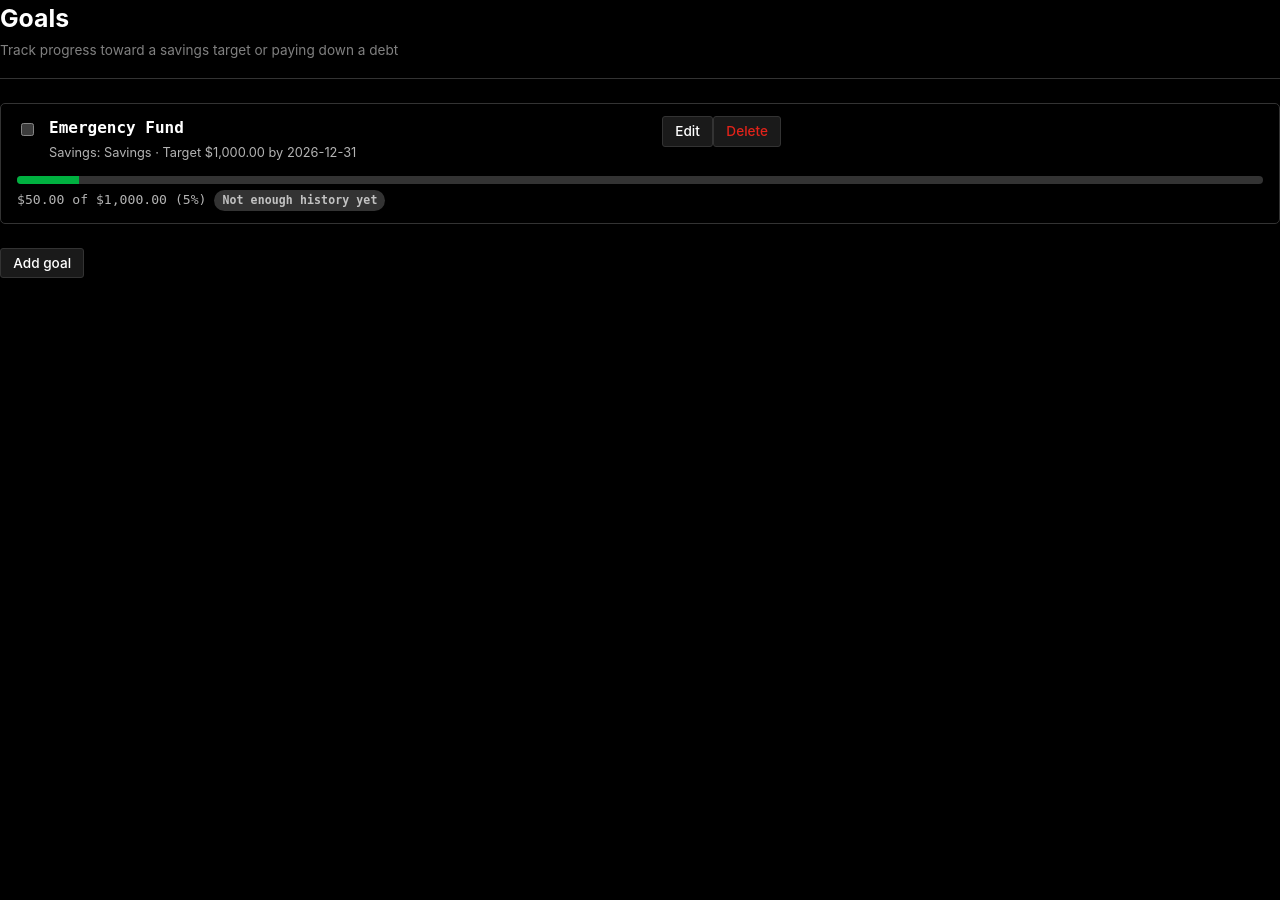
Scenario: GoalsScreen delete confirmation › clicking Delete opens a confirmation panel with a verb-phrase label, not a generic one
This screenshot has width=1280, height=900.
Expected: the text "Emergency Fund" is shown, [49,118,184,137]
Step 1. Click the button "Delete" → (747, 132), box [713,116,781,147]
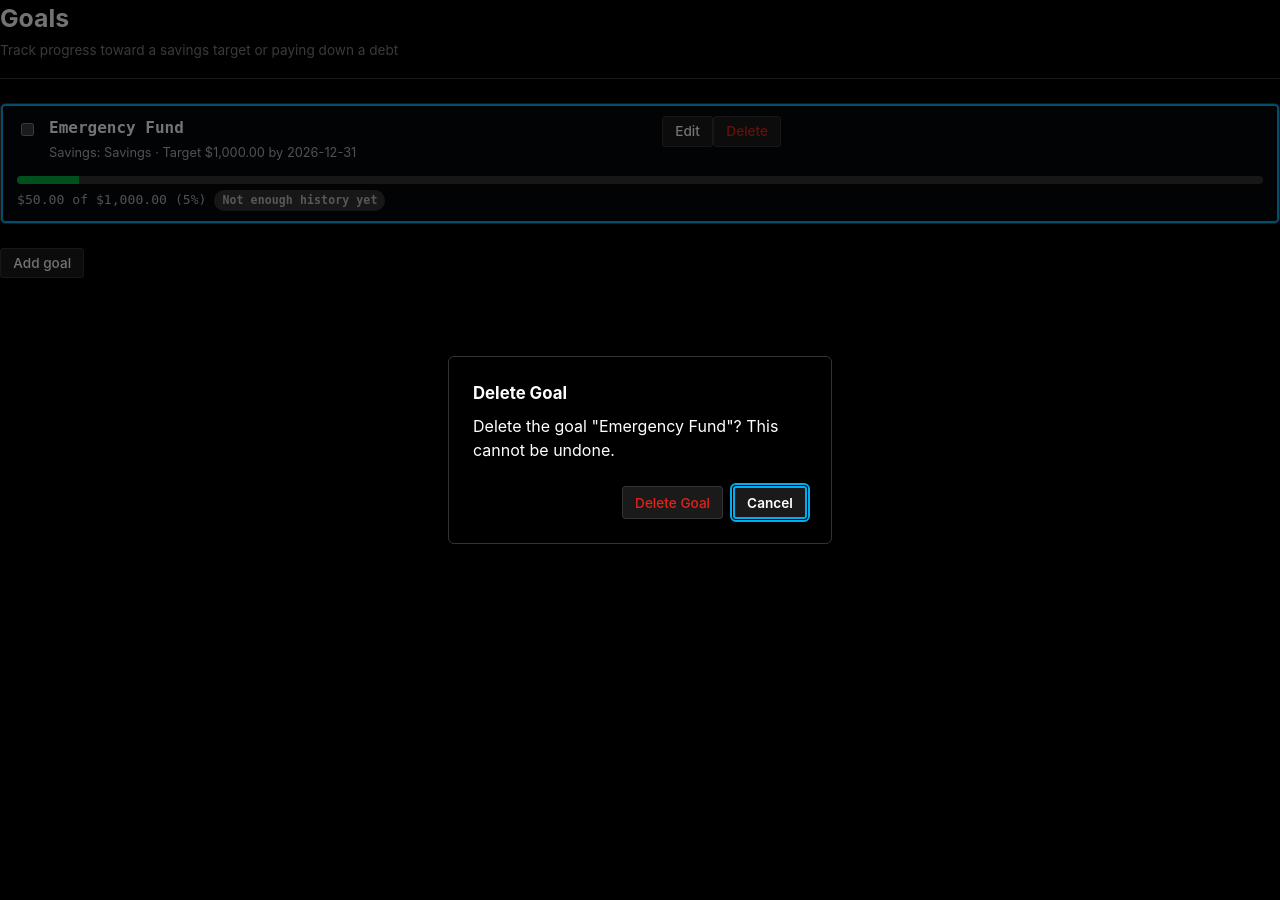
Now the heading "Delete Goal" is shown, box [473,383,567,403]
Now the button "Delete Goal" is shown, box [622,486,723,519]
